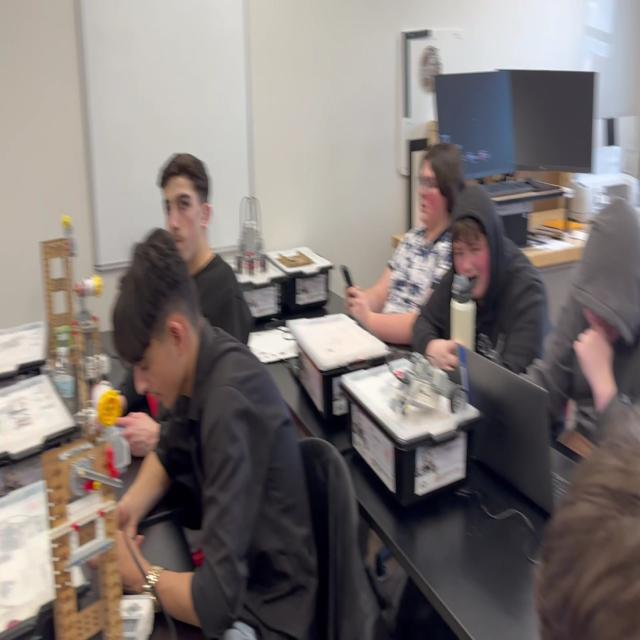pen: (341, 264, 357, 309)
